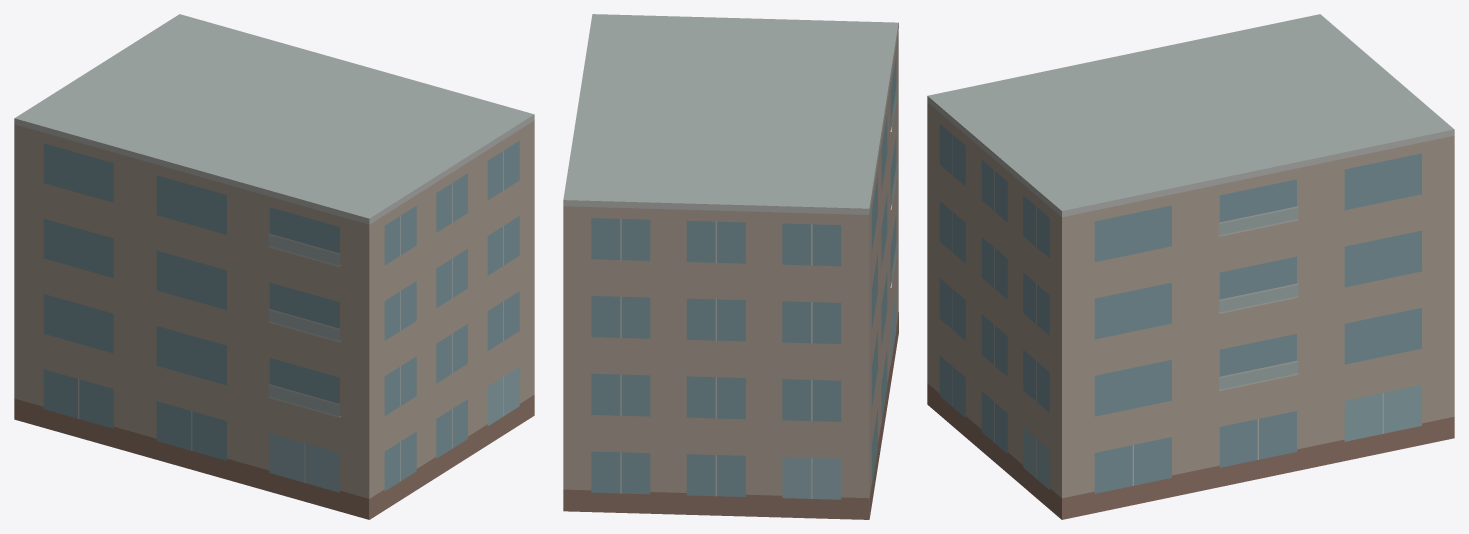
The model's file is residential-8897a4f6-f1cd-48fa-bfaf-cdcff31f0fa8.glb.
The picture shows the model from 3 angles, left to right: view 1: azimuth 30°, elevation 25°; view 2: azimuth 150°, elevation 25°; view 3: azimuth 270°, elevation 25°; orthographic projection. The views are drawn at different scales.
Visible parts, largest first — view 1: residential-8897a4f6-f1cd-48fa-bfaf-cdcff31f0fa8.tmp; view 2: residential-8897a4f6-f1cd-48fa-bfaf-cdcff31f0fa8.tmp; view 3: residential-8897a4f6-f1cd-48fa-bfaf-cdcff31f0fa8.tmp.
Part boxes in pixels (bbox=[...]): residential-8897a4f6-f1cd-48fa-bfaf-cdcff31f0fa8.tmp: bbox=[14, 14, 534, 519]; residential-8897a4f6-f1cd-48fa-bfaf-cdcff31f0fa8.tmp: bbox=[563, 14, 898, 519]; residential-8897a4f6-f1cd-48fa-bfaf-cdcff31f0fa8.tmp: bbox=[927, 14, 1454, 519].
Size of the model in its own units: 16.72 by 12.2 by 18.89.
